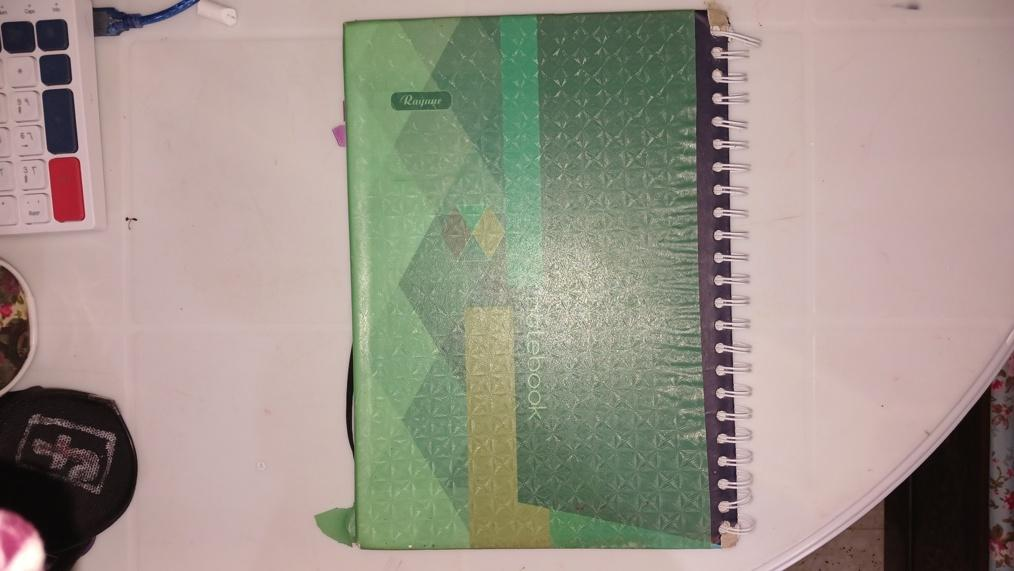notebook: (350, 7, 753, 549)
